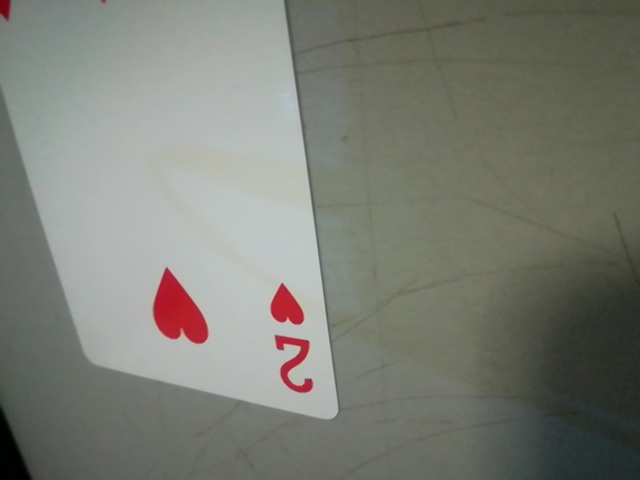hx 2: (260, 270, 326, 406)
